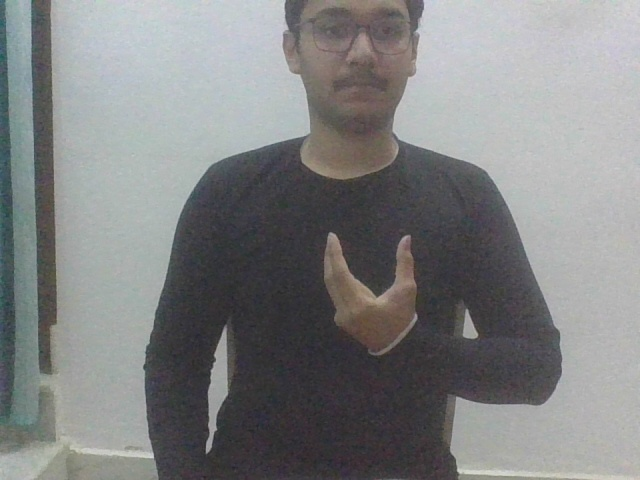U: (319, 230, 424, 362)
